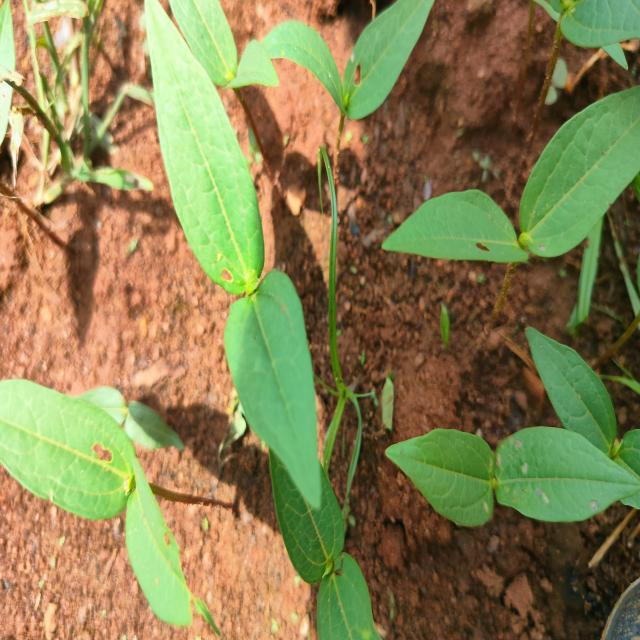Black gram_healthy: (144, 6, 266, 289), (225, 266, 324, 508), (519, 78, 640, 260), (2, 377, 134, 518), (127, 472, 219, 640), (496, 424, 634, 519), (526, 325, 615, 456), (383, 185, 530, 262), (344, 0, 436, 123), (388, 424, 494, 526), (268, 433, 342, 576), (262, 18, 342, 116), (170, 0, 240, 89)
